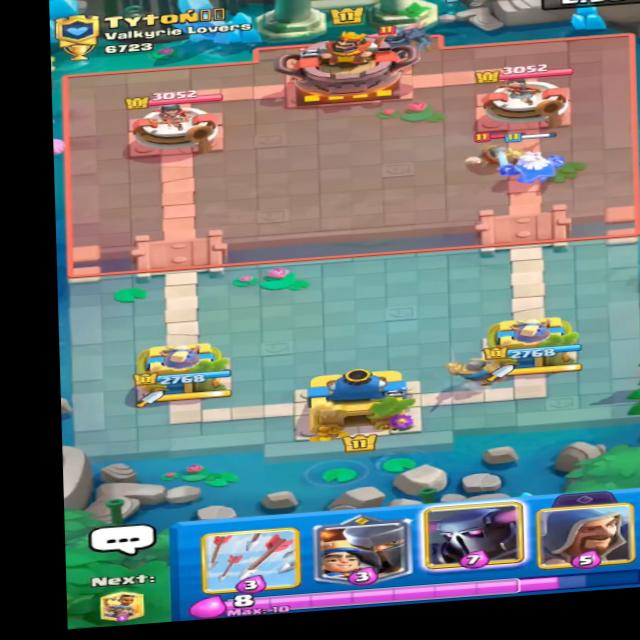knight: (456, 127, 539, 173)
pekka: (352, 17, 442, 62)
